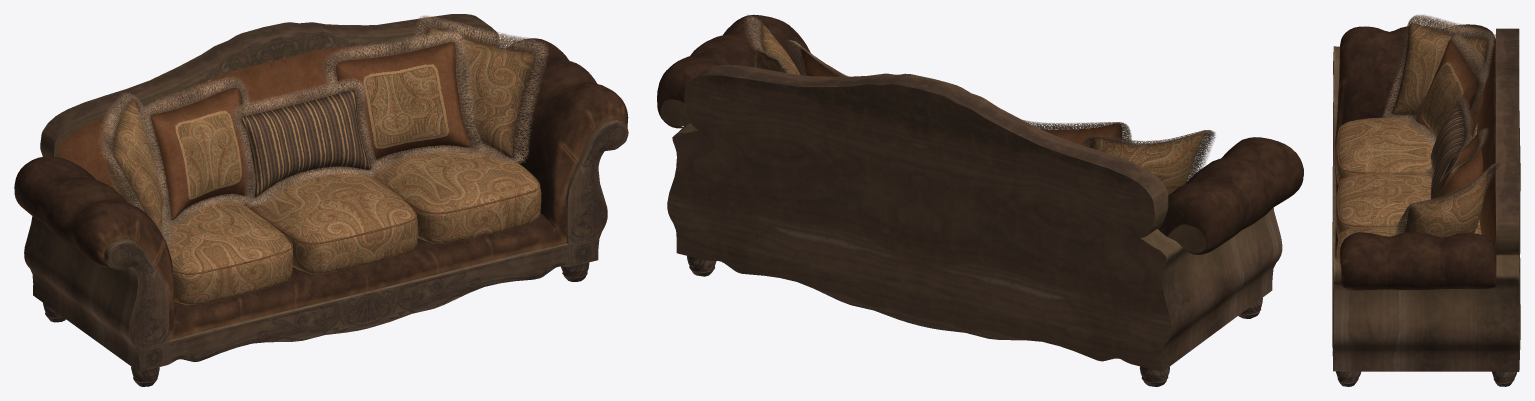
The model's file is SheenWoodLeatherSofa.glb.
The picture shows the model from 3 angles, left to right: view 1: azimuth 30°, elevation 25°; view 2: azimuth 150°, elevation 25°; view 3: azimuth 270°, elevation 25°; orthographic projection. The views are drawn at different scales.
Parts seen in each view (by area): view 1: Frame, Paisley, Fringe, Brown, Stripes, Frame_Fabric; view 2: Frame, Paisley, Fringe, Brown; view 3: Frame, Paisley, Fringe, Brown, Frame_Fabric, Stripes.
Boxes of the visible parts, x1,y1,x2,y2 form: Frame: [14, 14, 628, 386]; Paisley: [107, 27, 541, 304]; Fringe: [99, 15, 548, 245]; Brown: [150, 42, 540, 274]; Stripes: [175, 64, 449, 199]; Frame_Fabric: [58, 33, 495, 190]; Frame: [657, 14, 1303, 386]; Paisley: [754, 23, 1205, 195]; Fringe: [744, 14, 1215, 181]; Brown: [801, 46, 1122, 147]; Frame: [1332, 24, 1520, 386]; Paisley: [1335, 23, 1487, 257]; Fringe: [1382, 14, 1499, 235]; Brown: [1337, 40, 1483, 257]; Frame_Fabric: [1477, 39, 1495, 245]; Stripes: [1422, 61, 1472, 198].
Bounding box in the file's own units: 2.73 × 1.12 × 0.9225.
Materials: 6 (6 with a texture image).
